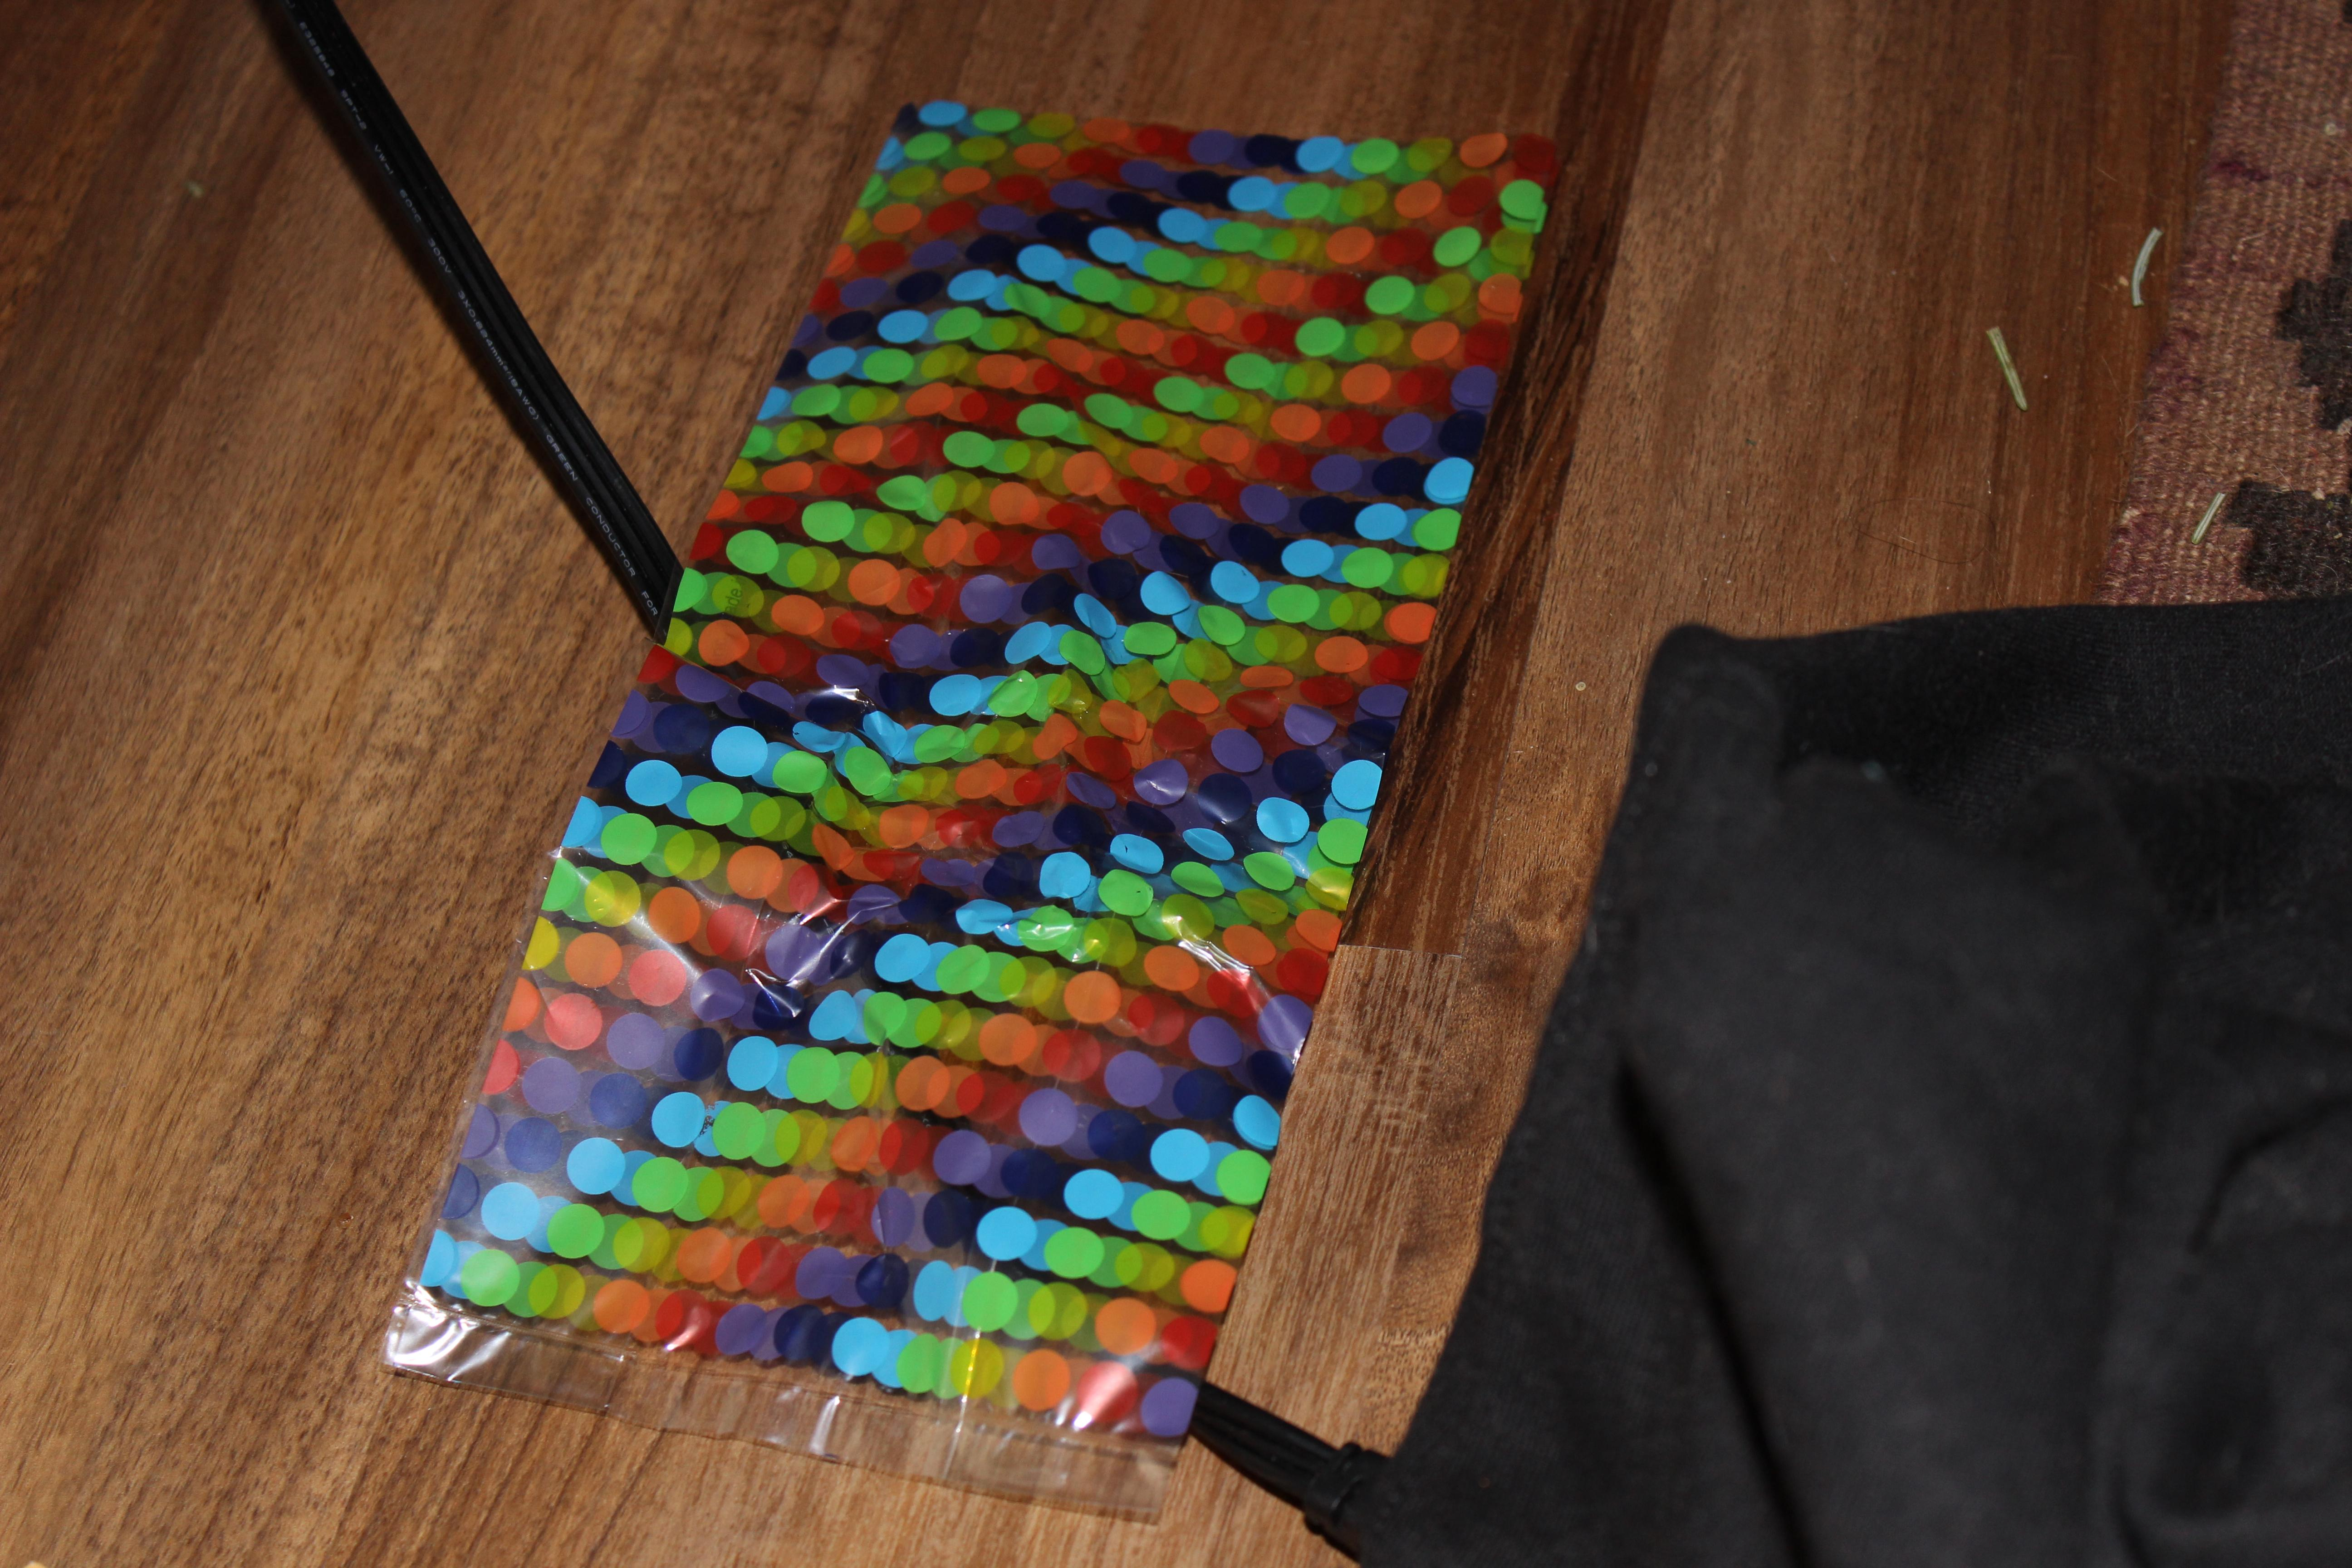giftBag: (376, 77, 1584, 1540)
